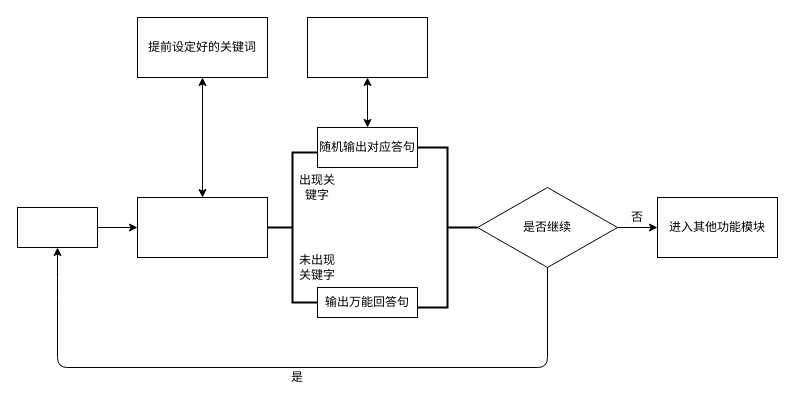
The diagram is 795 pixels wide and 405 high, and some of its shapes have lost their labels. Each missing label, with the box of its shape:
从用户的输入的句子中逐字检索关键字: (136, 196, 268, 258)
提前设定好的特定的关键字对应的答句: (306, 16, 428, 78)
用户输入: (16, 206, 98, 248)
